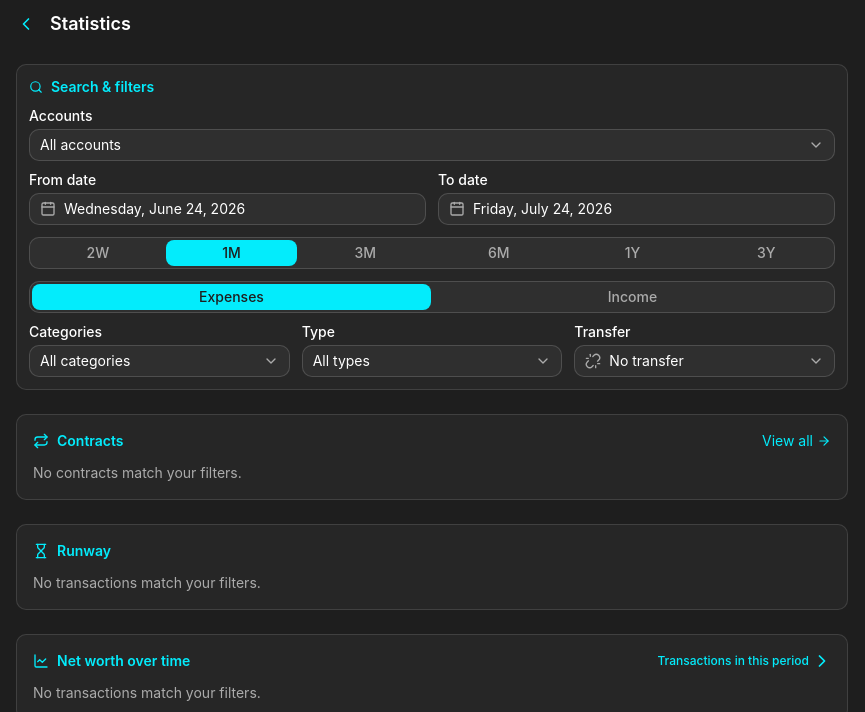
Test: StatsView › switches the other-party title to senders for income
This screenshot has width=865, height=712.
Click the button "Income" at point(632, 297), box [433, 284, 832, 310]
(page scrolled)
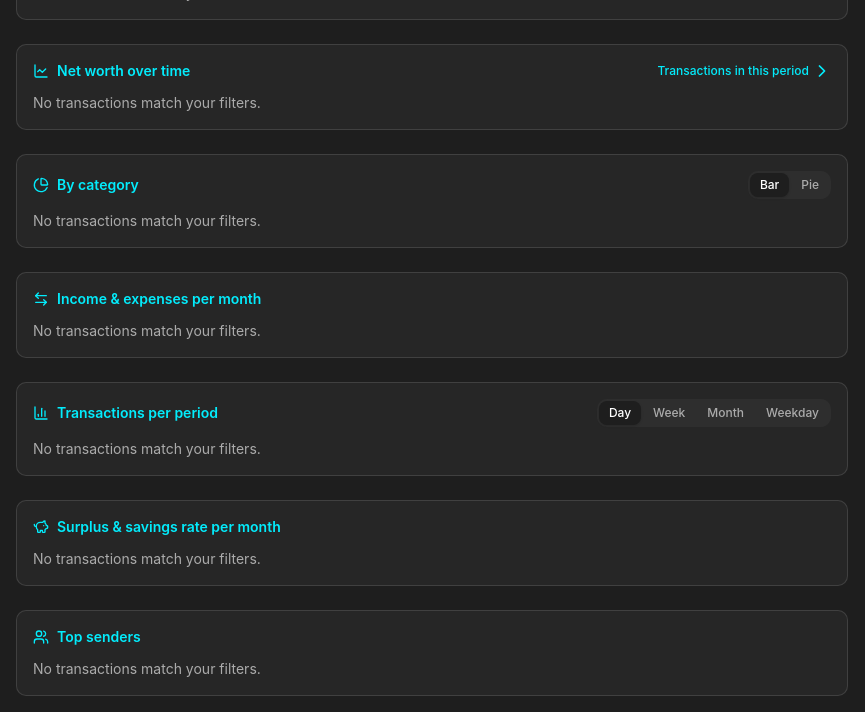
Expected: the heading "Top senders" is shown, [33, 627, 141, 647]
